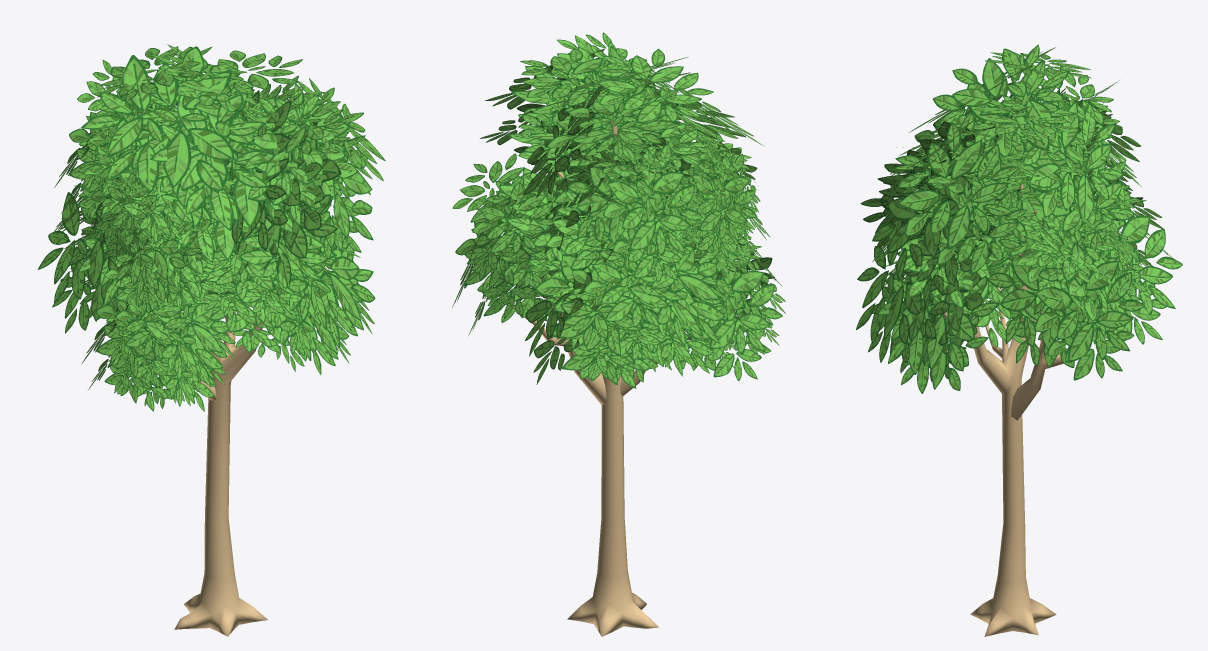
File: Tree4.fbx
3 renders of one model, left to right at view 1: azimuth 30°, elevation 25°; view 2: azimuth 150°, elevation 25°; view 3: azimuth 270°, elevation 25°, orthographic. The views are drawn at different scales.
Visible parts, largest first — view 1: Tree_19_Leaf69; view 2: Tree_19_Leaf69; view 3: Tree_19_Leaf69.
Part boxes in pixels (bbox=[...]): Tree_19_Leaf69: bbox=[37, 44, 385, 636]; Tree_19_Leaf69: bbox=[452, 32, 785, 636]; Tree_19_Leaf69: bbox=[856, 44, 1182, 636].
Bounding box in the file's own units: 10.58 × 19.13 × 11.02.
